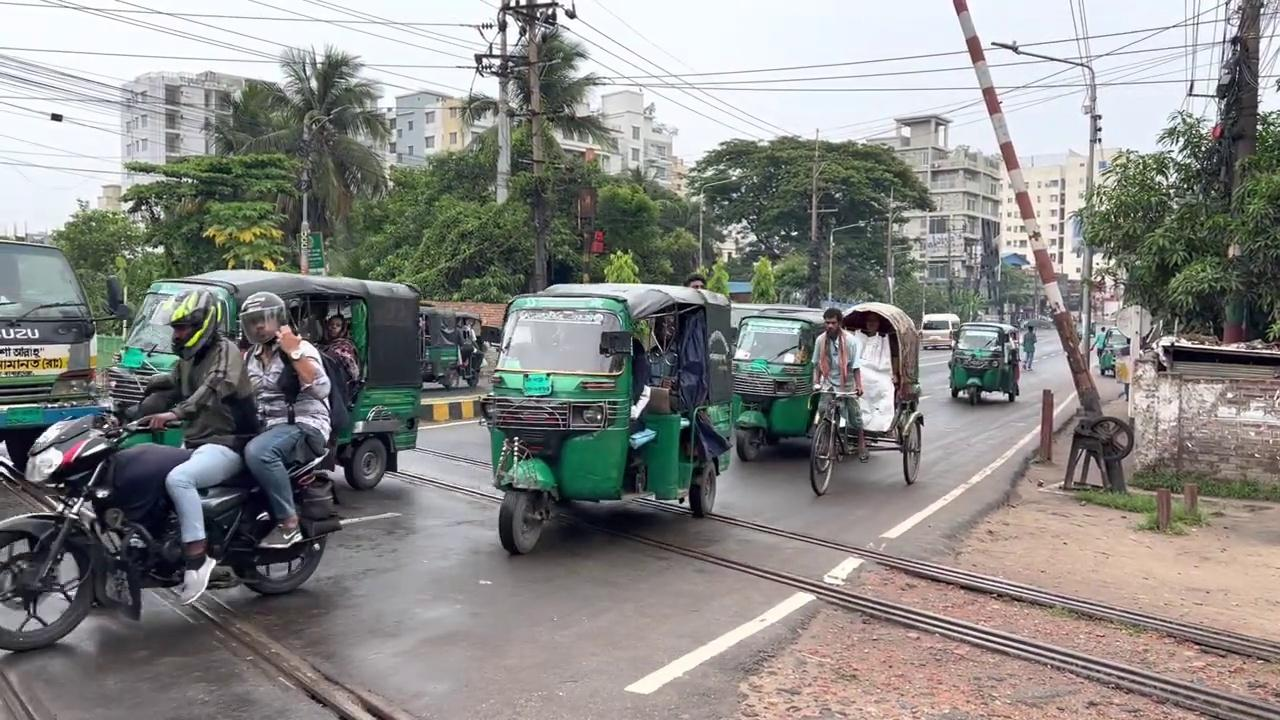Curb: (0, 405, 343, 651)
Fence: (129, 287, 262, 605), (237, 290, 332, 549), (809, 307, 869, 462), (1021, 325, 1036, 371)
Garbage: (950, 0, 1130, 492)
Motorcycle: (375, 442, 1278, 718)
Railroad-crossing: (448, 21, 619, 292), (201, 42, 393, 274)
Rickshaw: (478, 281, 734, 554), (0, 234, 131, 477)
